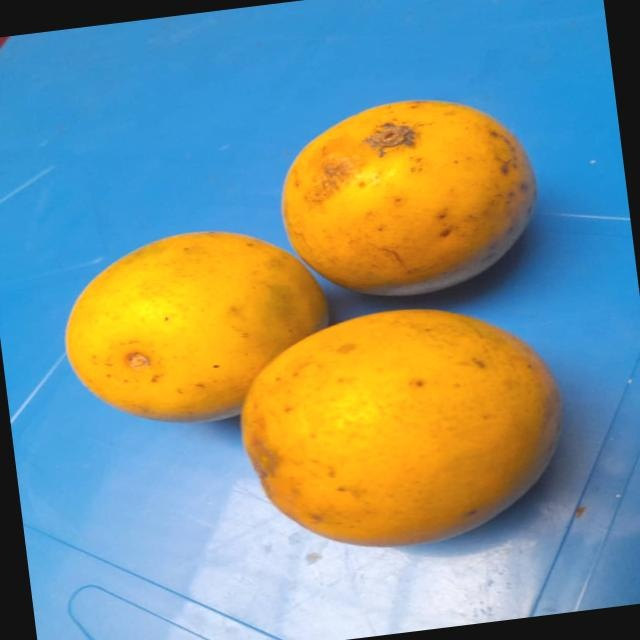agrume: (226, 293, 578, 571), (260, 59, 564, 314), (46, 214, 342, 451)
